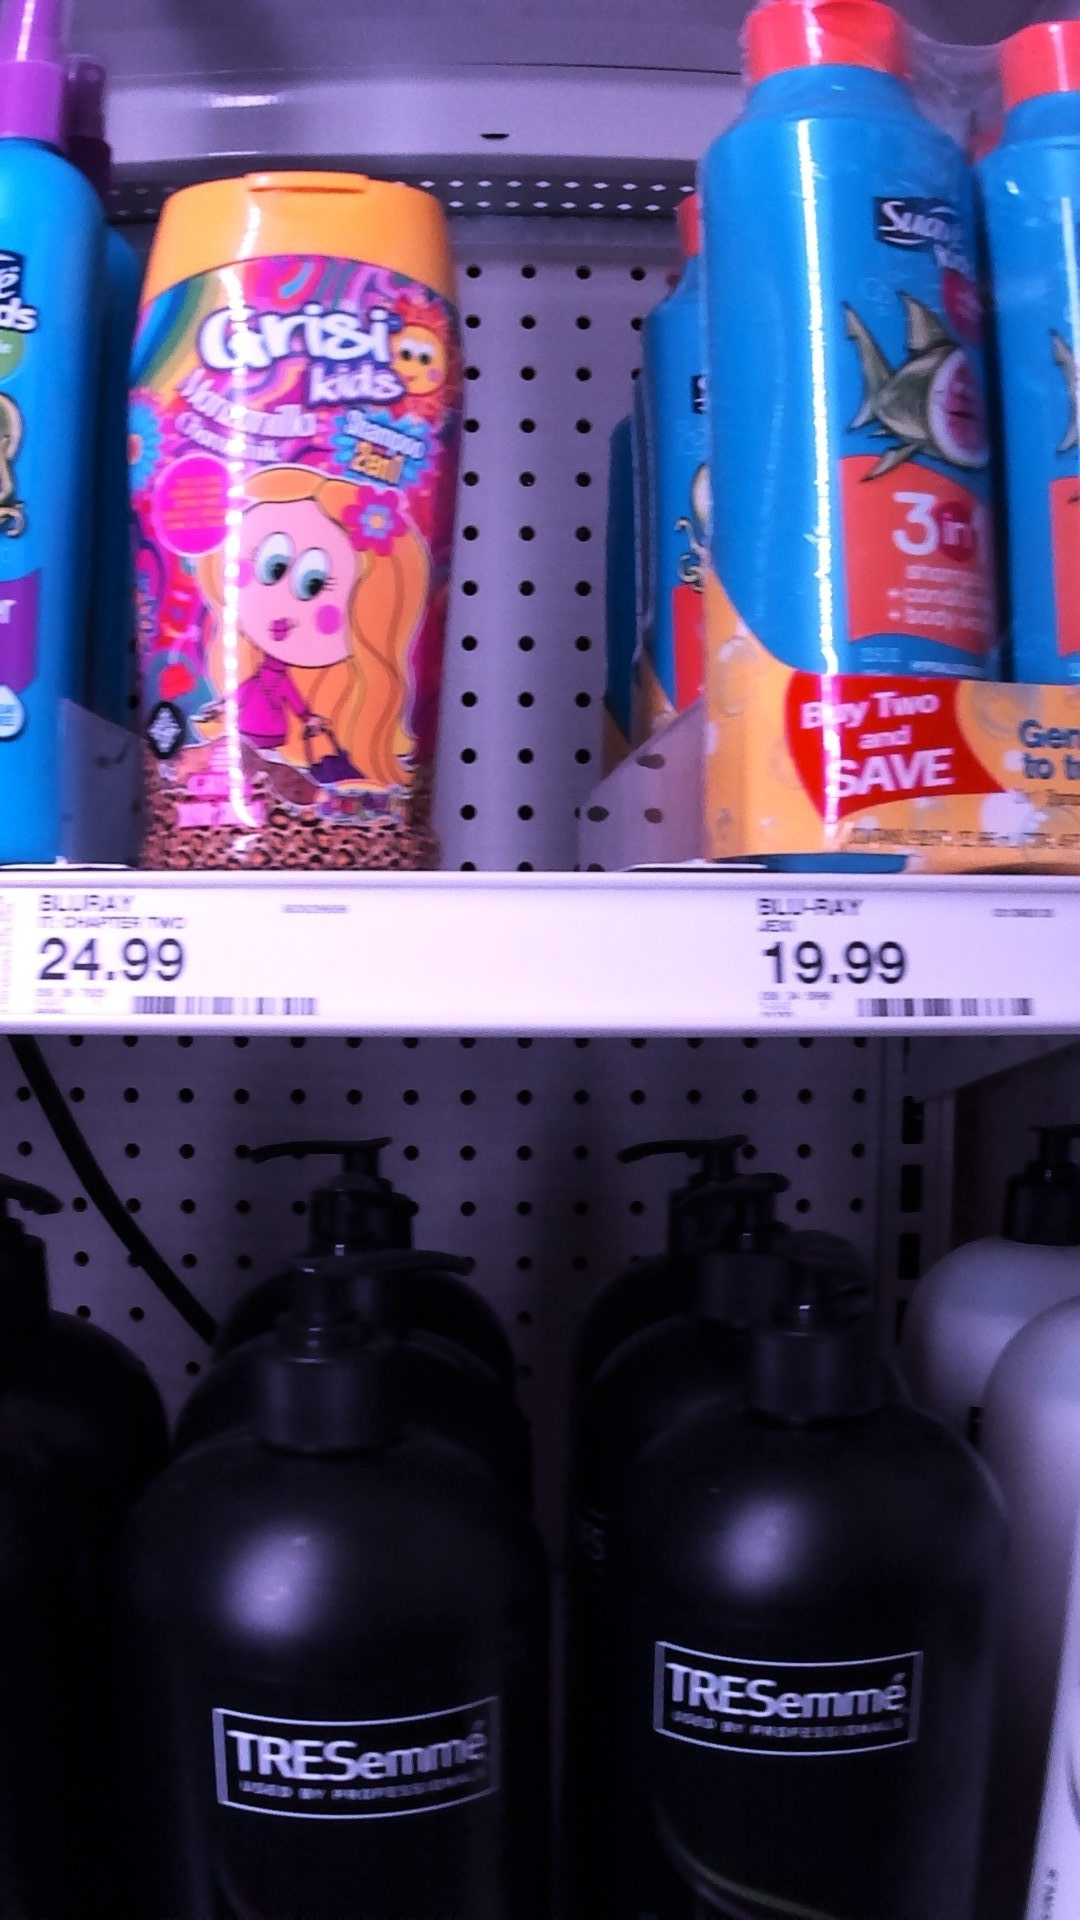ptag: (29, 880, 364, 1031), (746, 884, 1065, 1025)
